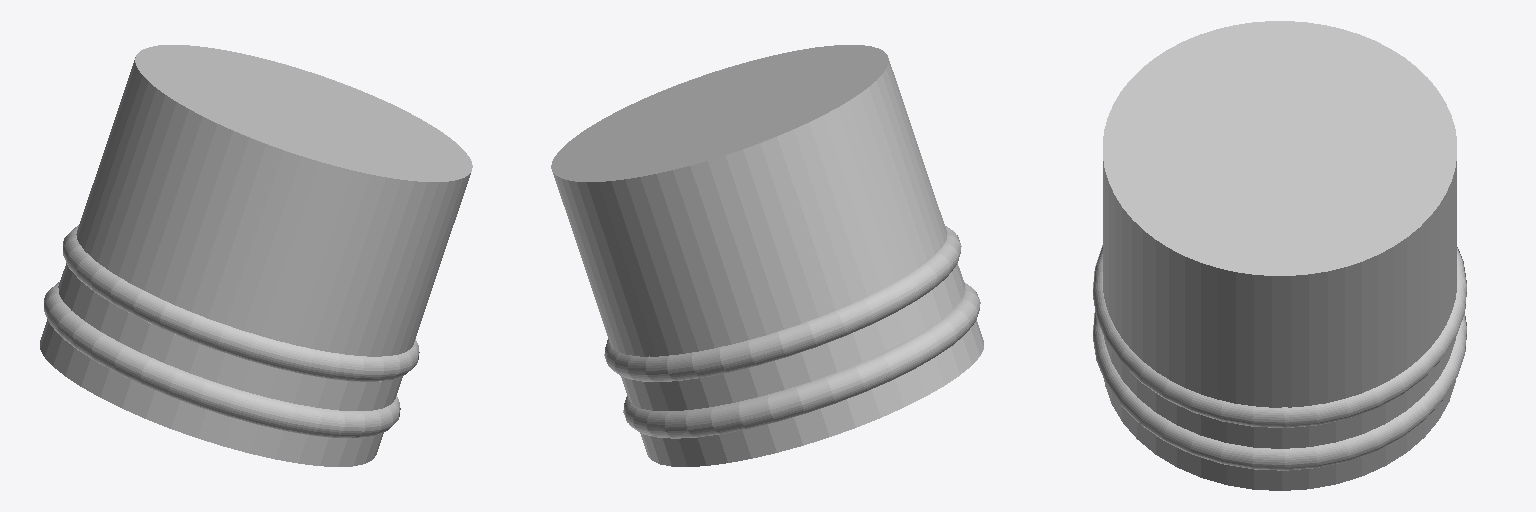
The model's file is bombilla93.obj.
3 views of the same model, side by side, from view 1: azimuth 30°, elevation 25°; view 2: azimuth 150°, elevation 25°; view 3: azimuth 270°, elevation 25° (orthographic).
Visible parts, largest first — view 1: Cylinder001, Cylinder003, Cylinder004, Cylinder006, Cylinder002; view 2: Cylinder001, Cylinder003, Cylinder004, Cylinder006, Cylinder002; view 3: Cylinder001, Cylinder004, Cylinder002, Cylinder003, Cylinder006.
Boxes of the visible parts, <box> form: Cylinder001: <box>76,45,472,356</box>; Cylinder003: <box>58,263,402,410</box>; Cylinder004: <box>44,282,400,438</box>; Cylinder006: <box>40,319,383,466</box>; Cylinder002: <box>63,225,419,381</box>; Cylinder001: <box>551,45,946,356</box>; Cylinder003: <box>621,263,964,410</box>; Cylinder004: <box>623,282,980,438</box>; Cylinder006: <box>640,320,983,466</box>; Cylinder002: <box>604,226,961,381</box>; Cylinder001: <box>1103,21,1456,407</box>; Cylinder004: <box>1093,312,1466,470</box>; Cylinder002: <box>1093,245,1466,427</box>; Cylinder003: <box>1104,338,1455,448</box>; Cylinder006: <box>1104,380,1455,490</box>.
Size of the model in its own units: 85.2 by 80.08 by 72.21.